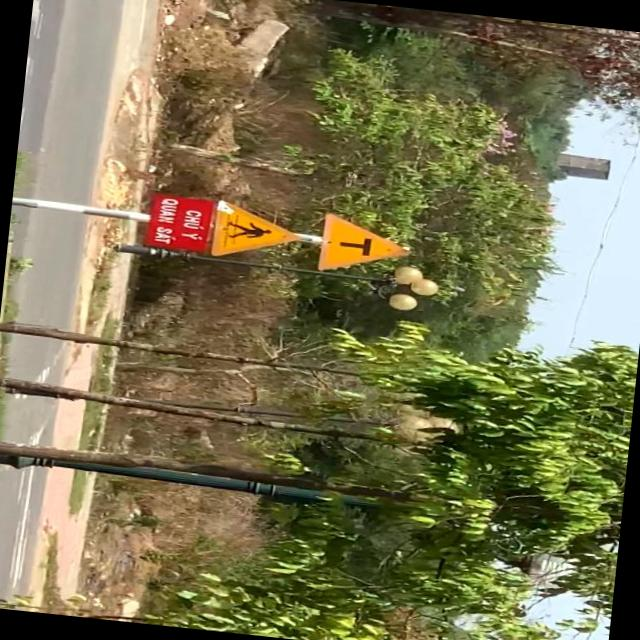W-205d: (314, 208, 414, 280)
W-224: (208, 196, 300, 266)
